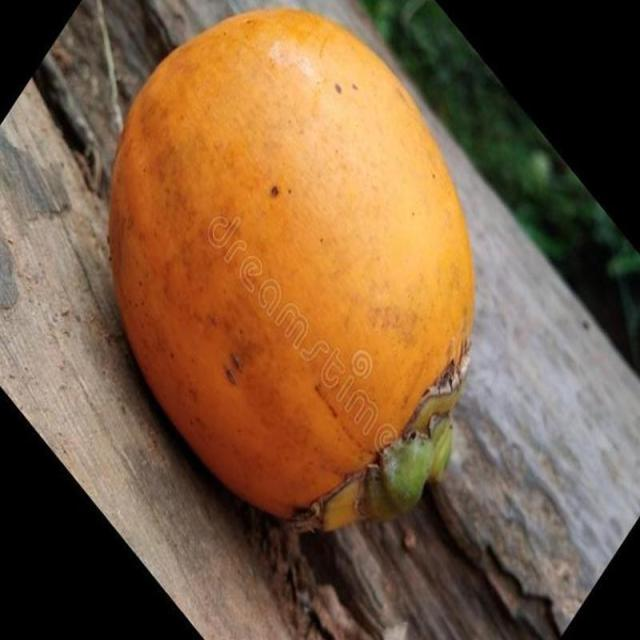good: (109, 10, 469, 533)
